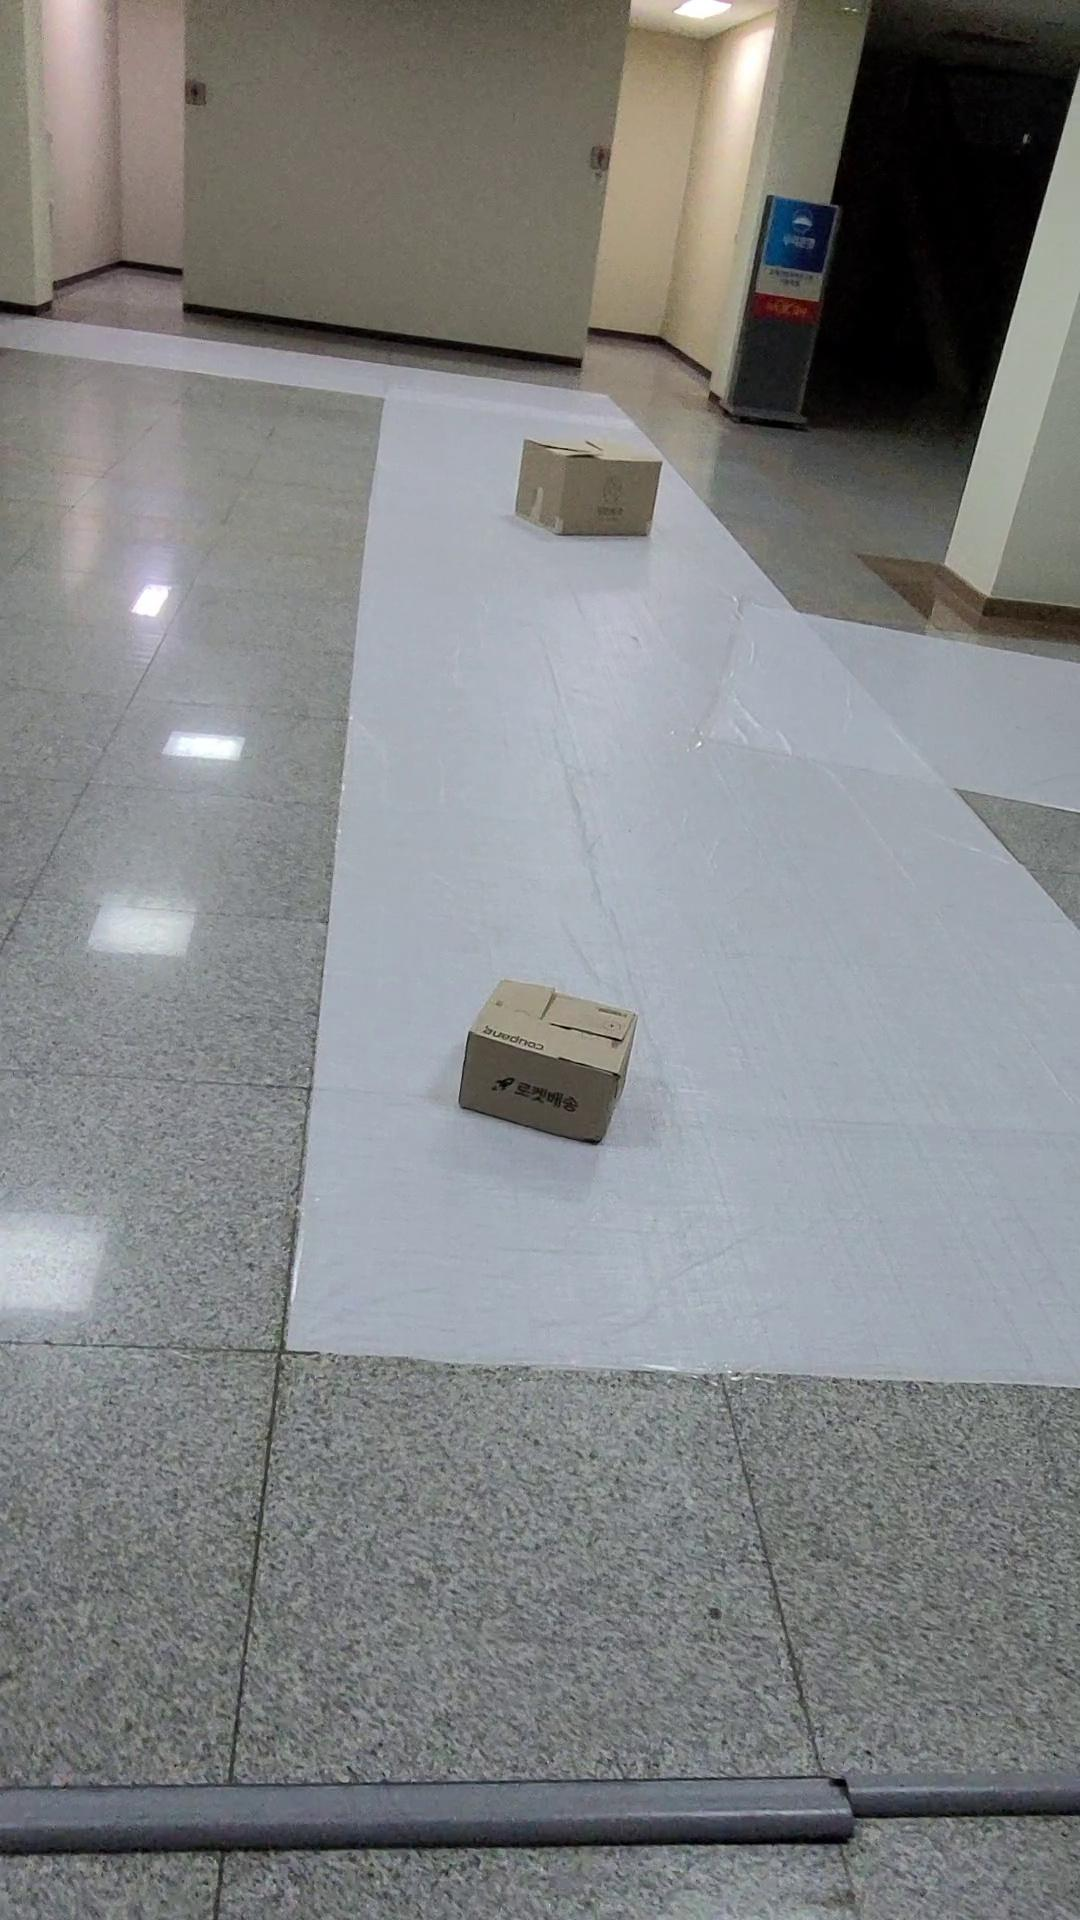Box: (446, 949, 647, 1180), (471, 404, 684, 568)
